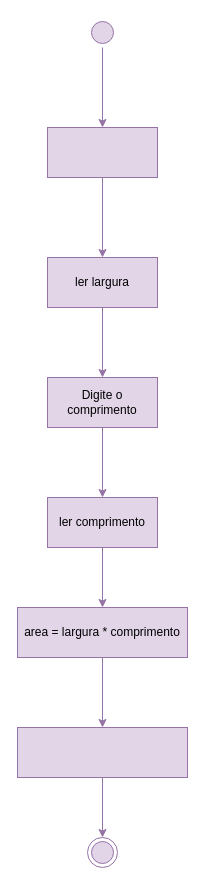
Some shapes in this 205 by 885 pixel diagram are drawn without their labels. The centre of each missing label's shape, as x and y in pixels:
"Digite a largura" belongs at pixel 102 152.
"Exibir área" belongs at pixel 102 752.
